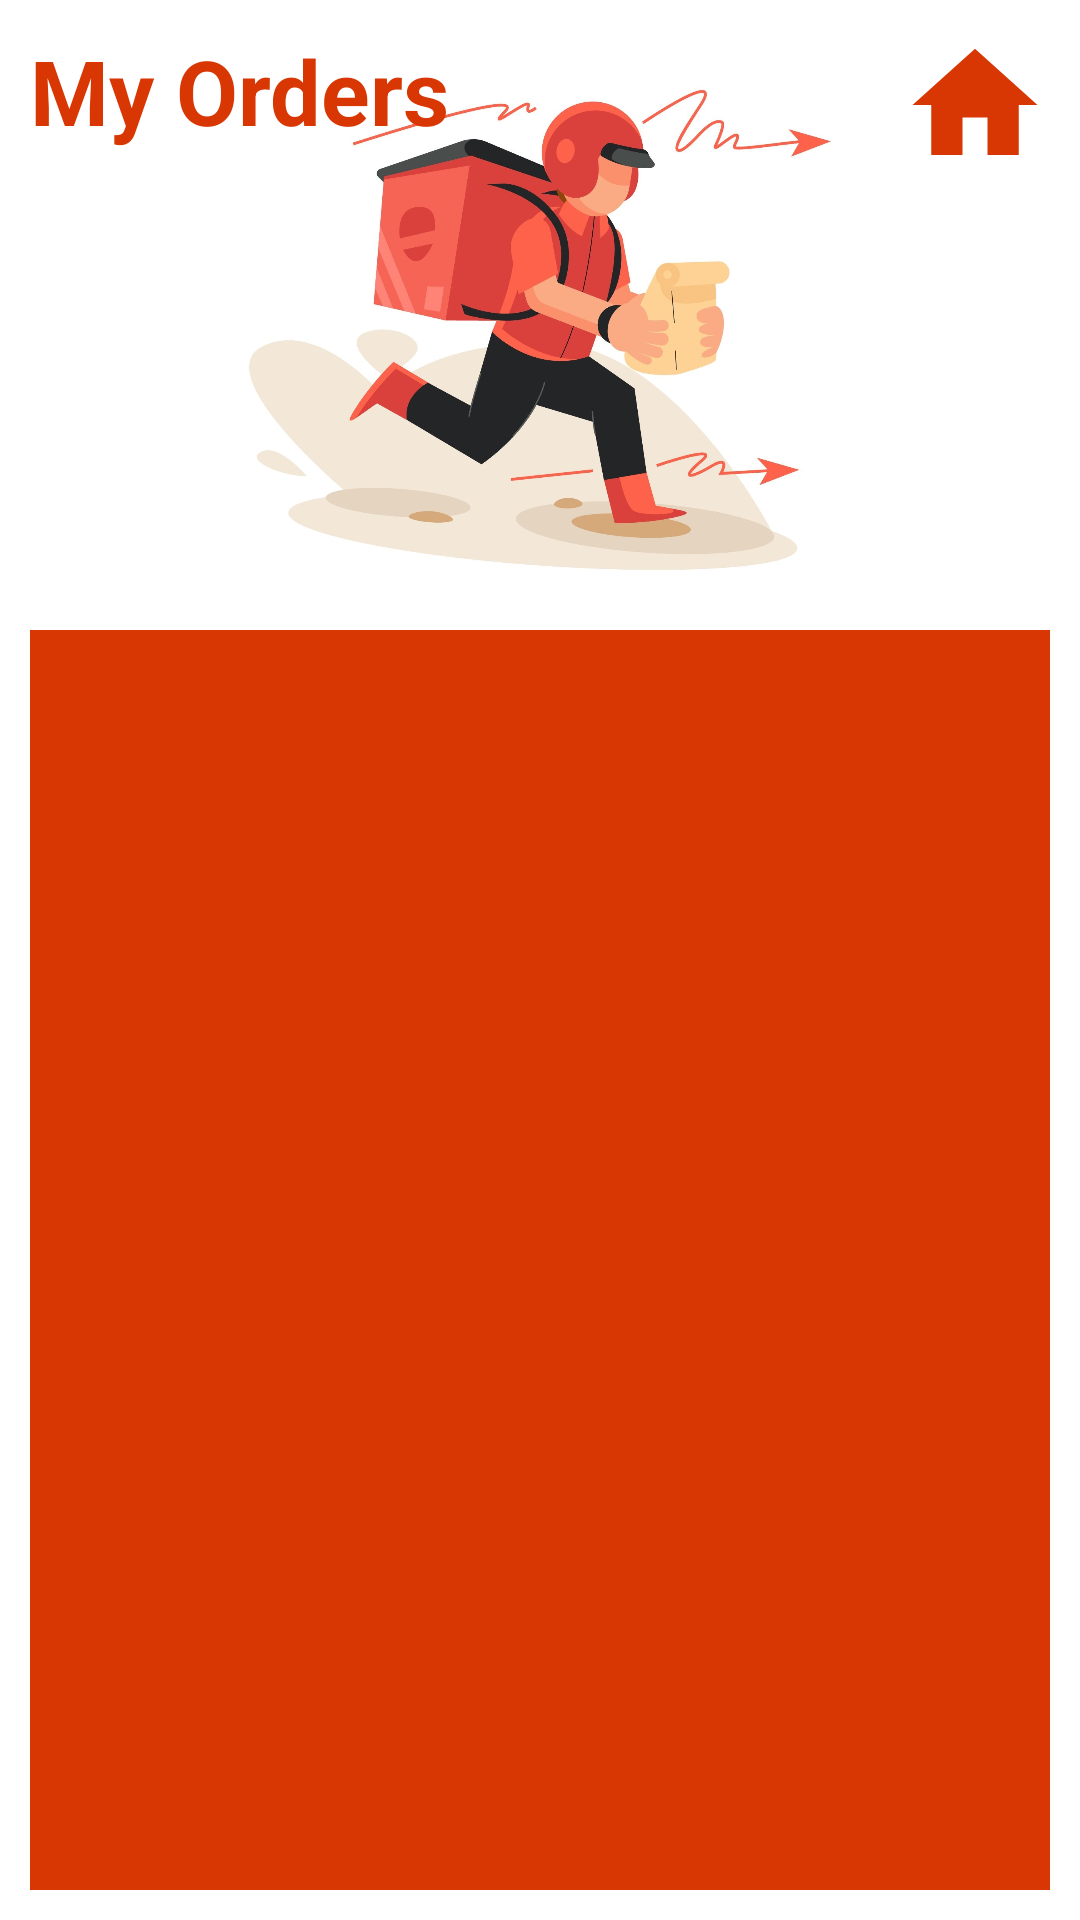

Screen size 1080 x 1920. Icon name, then its center in pixels as (x=x, y=y):
home bright: (x=975, y=102)
